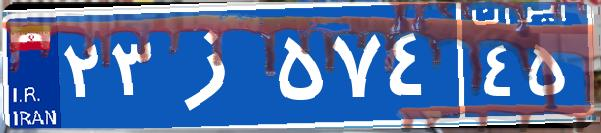2: (57, 26, 110, 107)
3: (110, 28, 158, 105)
4: (385, 28, 445, 110), (475, 38, 525, 113)
5: (273, 28, 330, 110), (525, 38, 570, 115)
7: (330, 28, 385, 110)
ز: (158, 15, 273, 115)
